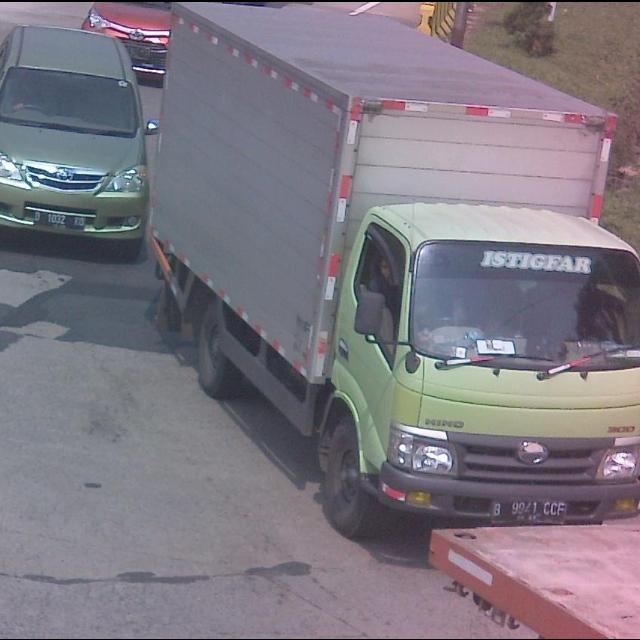plate: (491, 496, 569, 524)
